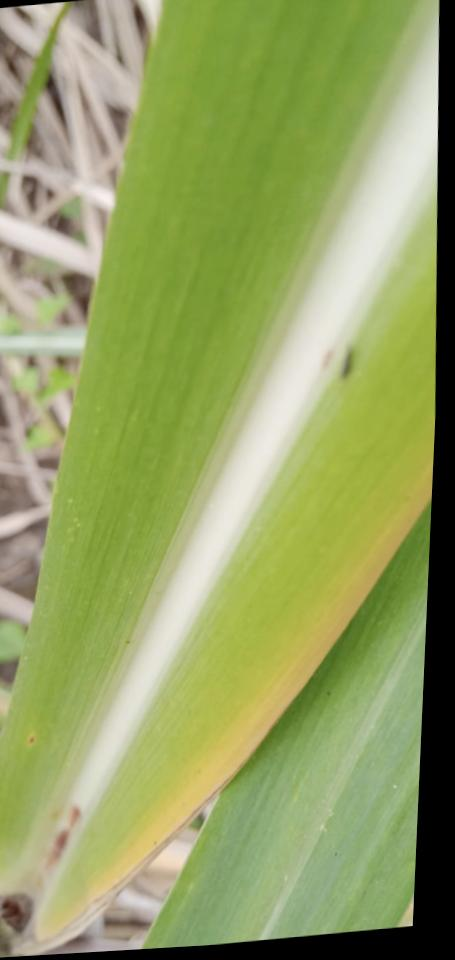RedRot: (40, 805, 80, 872), (319, 350, 334, 372)
Rust: (27, 734, 34, 745)
Yellow: (8, 467, 433, 955), (339, 347, 353, 381)
